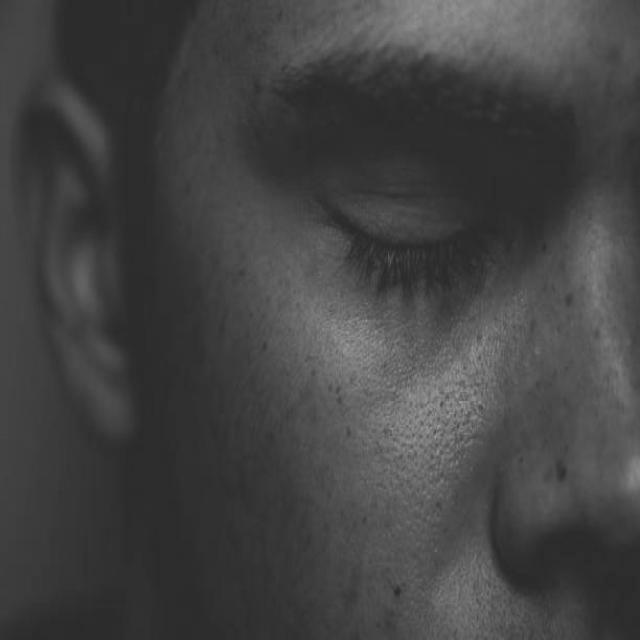real: (248, 34, 604, 336)
